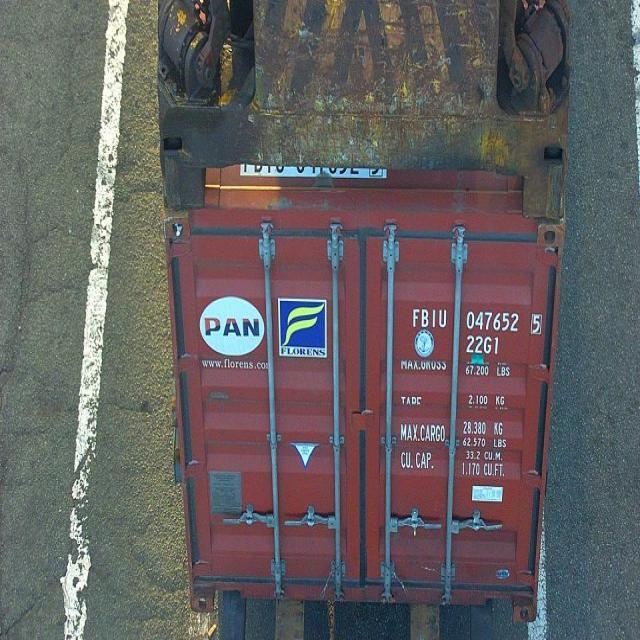ISO: (466, 330, 499, 350)
container_number: (412, 306, 546, 332)
